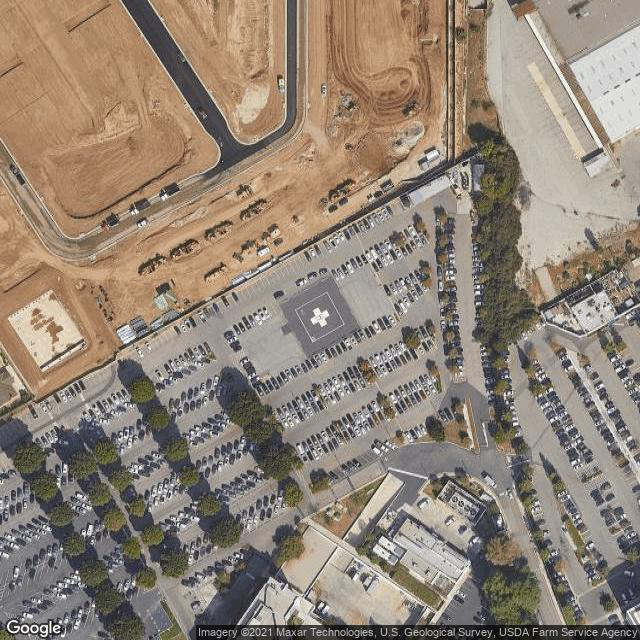Helipad: (292, 291, 348, 342)
